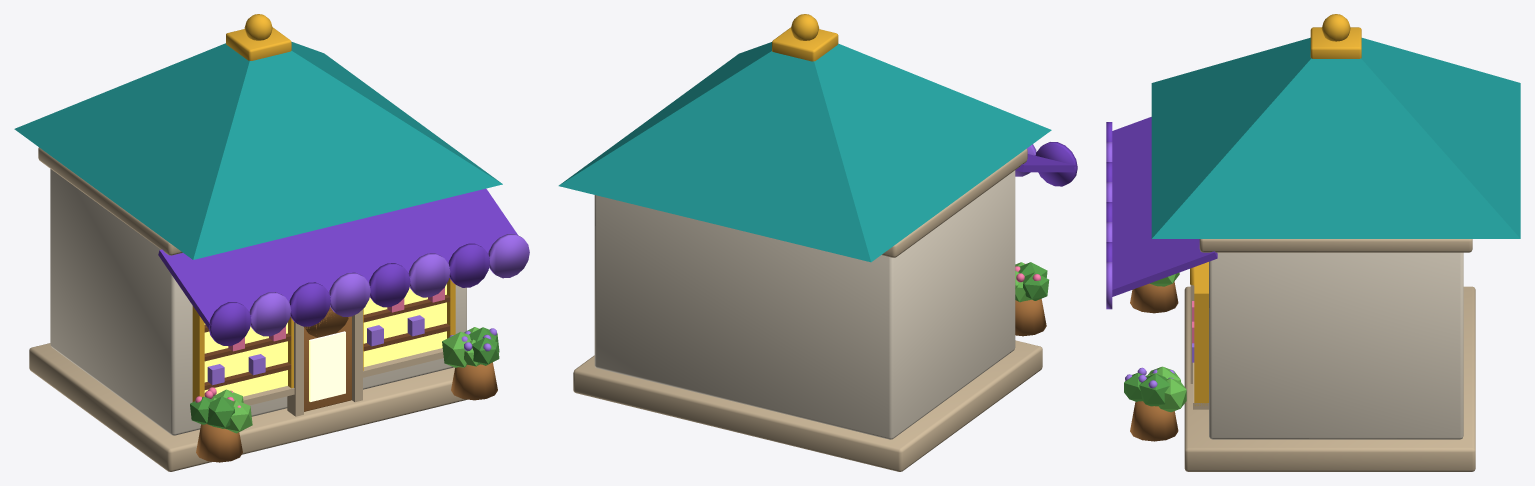
The model's file is magazin_4.glb.
3 views of the same model, side by side, from view 1: azimuth 30°, elevation 25°; view 2: azimuth 150°, elevation 25°; view 3: azimuth 270°, elevation 25° (orthographic). The views are drawn at different scales.
Visible parts, largest first — view 1: Mag.001; view 2: Mag.001; view 3: Mag.001.
Part boxes in pixels (box(x1,y1,x2,y2)): Mag.001: box(14, 14, 529, 471); Mag.001: box(558, 14, 1077, 471); Mag.001: box(1106, 14, 1520, 471).
Bounding box in the file's own units: 3.2 × 3.42 × 3.42.
